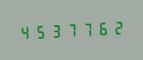five: (32, 22, 46, 41)
four: (17, 22, 31, 42)
seven: (62, 20, 76, 39), (77, 19, 91, 38)
six: (92, 18, 106, 38)
three: (47, 21, 61, 40)
two: (107, 18, 121, 37)
